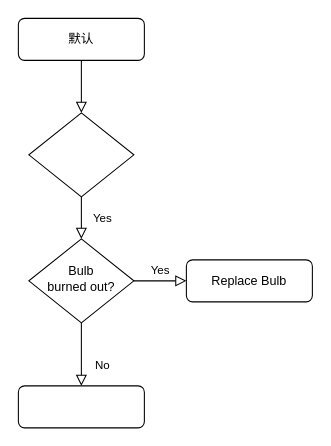
Some shapes in this 331 by 446 pixel diagram are drawn without their labels. The centre of each missing label's shape, as x and y in pixels:
"提交信息" belongs at (x=80, y=406).
"鼠标hover" belongs at (x=81, y=154).
